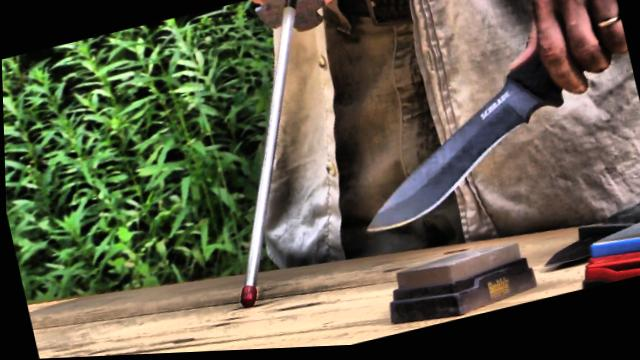knife: (316, 0, 640, 250)
